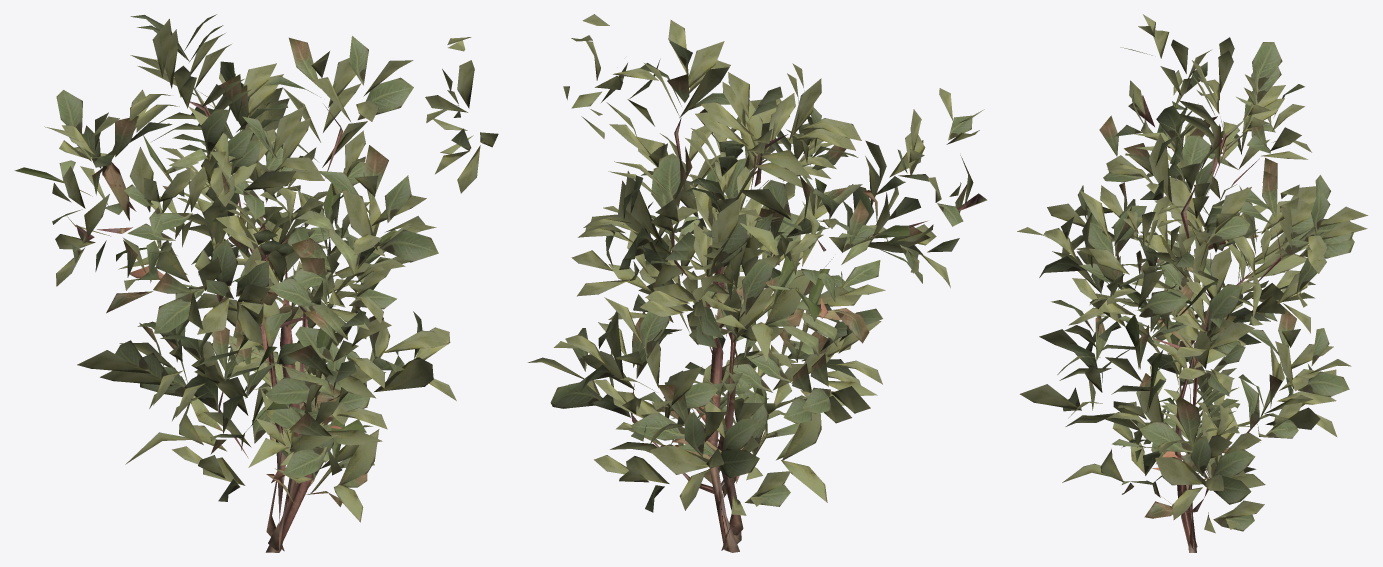
The model's file is shrub_04.glb.
The picture shows the model from 3 angles, left to right: view 1: azimuth 30°, elevation 25°; view 2: azimuth 150°, elevation 25°; view 3: azimuth 270°, elevation 25°; orthographic projection. The views are drawn at different scales.
Parts seen in each view (by area): view 1: shrub_04_shrub_04_3, shrub_04_shrub_04_2, shrub_04_shrub_04_1, shrub_04_shrub_04_0; view 2: shrub_04_shrub_04_3, shrub_04_shrub_04_2, shrub_04_shrub_04_1, shrub_04_shrub_04_0; view 3: shrub_04_shrub_04_3, shrub_04_shrub_04_2, shrub_04_shrub_04_1, shrub_04_shrub_04_0.
Boxes of the visible parts, <box> form: shrub_04_shrub_04_3: <box>14,25,438,550</box>; shrub_04_shrub_04_2: <box>77,14,498,551</box>; shrub_04_shrub_04_1: <box>100,120,391,552</box>; shrub_04_shrub_04_0: <box>231,184,456,546</box>; shrub_04_shrub_04_3: <box>578,73,987,548</box>; shrub_04_shrub_04_2: <box>563,14,882,550</box>; shrub_04_shrub_04_1: <box>554,175,861,552</box>; shrub_04_shrub_04_0: <box>528,154,802,537</box>; shrub_04_shrub_04_3: <box>1017,14,1367,545</box>; shrub_04_shrub_04_2: <box>1052,37,1367,552</box>; shrub_04_shrub_04_1: <box>1039,205,1351,549</box>; shrub_04_shrub_04_0: <box>1062,236,1265,545</box>.
Size of the model in its own units: 0.723 by 0.874 by 0.5858.
Materials: 1 (1 with a texture image).
